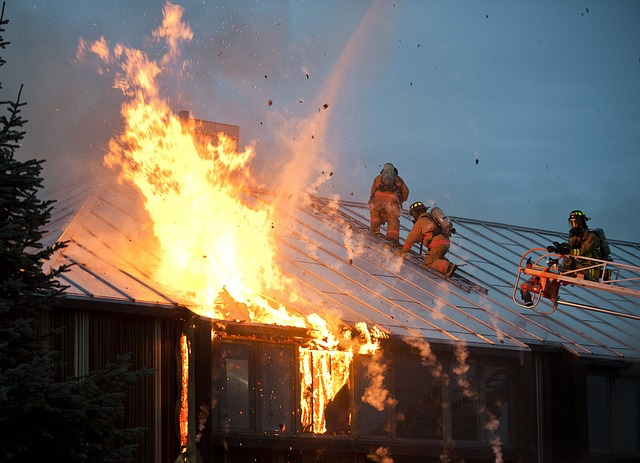fire: (120, 100, 321, 325), (300, 326, 364, 431)
smoke: (8, 20, 108, 229), (196, 13, 369, 95)
